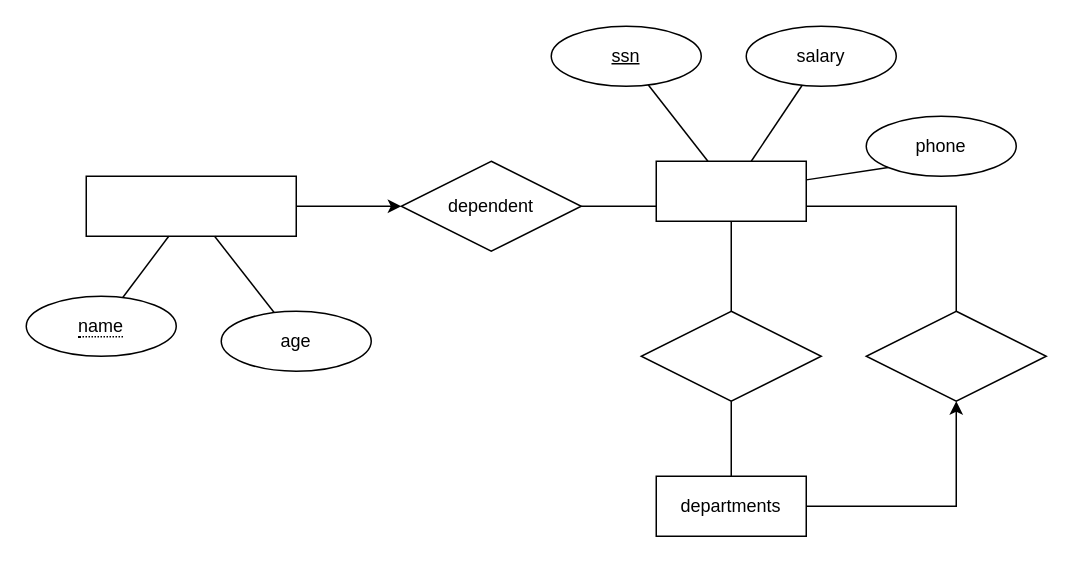
Image size: 1073x563. Some labels were removed from this diagram. The shapes that lost their labels are listed below. From the top down, each one's centre as x and y in pixels, then its label:
At (x=190, y=205): "childrenOfEmployee".
At (x=730, y=190): "employees".
At (x=730, y=355): "work_in".
At (x=955, y=355): "manage".
